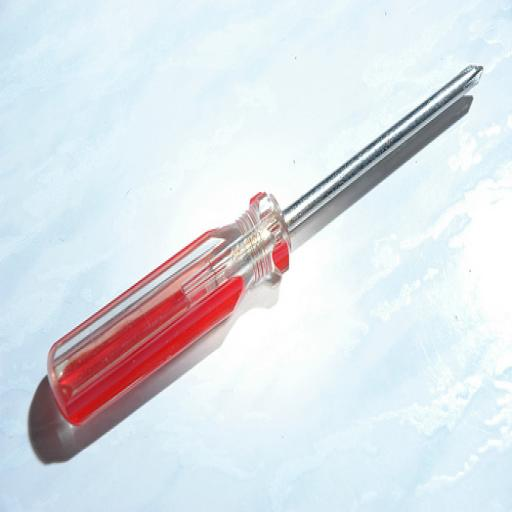screwdriver: (47, 63, 483, 424)
